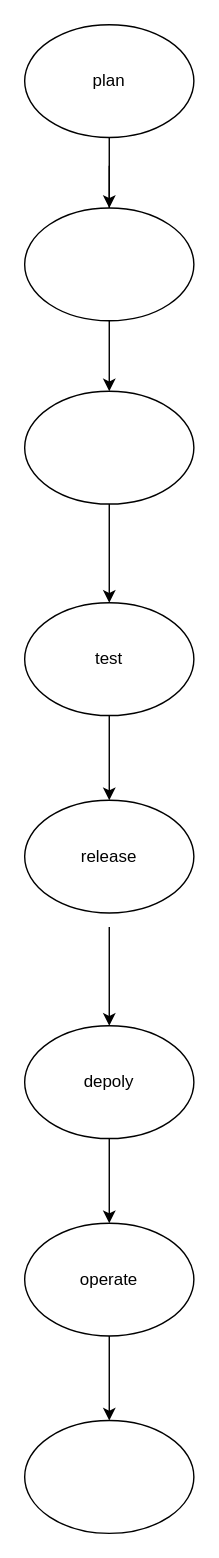
Some shapes in this 219 by 1558 pixel diagram are drawn without their labels. Here are the shapes that lost their labels. From the top down, the centre of each, then its label:
At (x=108, y=264): "develop".
At (x=108, y=447): "bulit".
